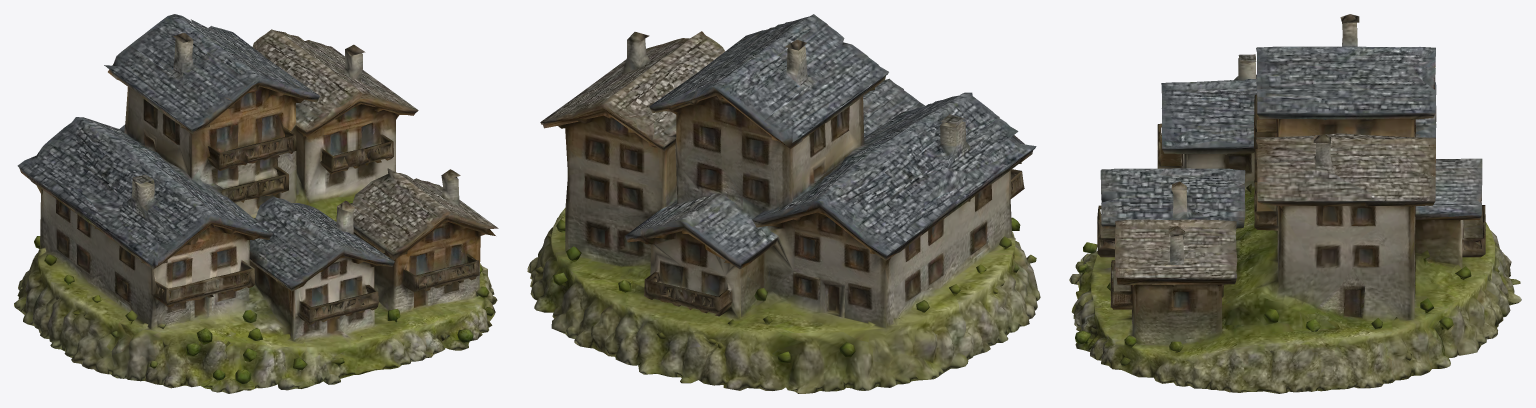
The model's file is alpe-village.glb.
3 renders of one model, left to right at view 1: azimuth 30°, elevation 25°; view 2: azimuth 150°, elevation 25°; view 3: azimuth 270°, elevation 25°, orthographic. The views are drawn at different scales.
Parts seen in each view (by area): view 1: tripo_node_9cfc4fd6-0cb1-440d-9924-a02974ddc66f; view 2: tripo_node_9cfc4fd6-0cb1-440d-9924-a02974ddc66f; view 3: tripo_node_9cfc4fd6-0cb1-440d-9924-a02974ddc66f.
Boxes of the visible parts, x1,y1,x2,y2 form: tripo_node_9cfc4fd6-0cb1-440d-9924-a02974ddc66f: [14, 14, 498, 393]; tripo_node_9cfc4fd6-0cb1-440d-9924-a02974ddc66f: [527, 14, 1040, 393]; tripo_node_9cfc4fd6-0cb1-440d-9924-a02974ddc66f: [1069, 14, 1521, 393].
Bounding box in the file's own units: 1 × 0.602 × 0.9523.
1 material, 1 textured.
